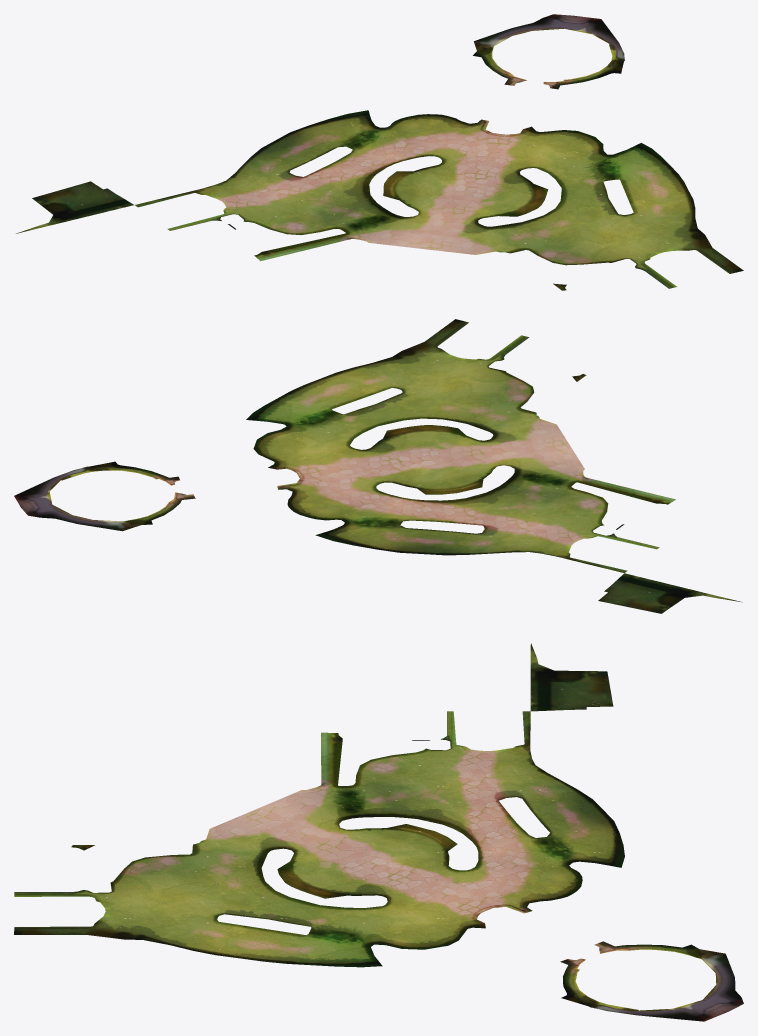
Rendered from pref_sm_garden_terrain_02_lv2.fbx.
3 views of the same model, one above another, from view 1: azimuth 30°, elevation 25°; view 2: azimuth 150°, elevation 25°; view 3: azimuth 270°, elevation 25° (orthographic). The views are drawn at different scales.
Parts seen in each view (by area): view 1: pref_sm_garden_terrain_02_lv2; view 2: pref_sm_garden_terrain_02_lv2; view 3: pref_sm_garden_terrain_02_lv2.
Part boxes in pixels (left/top/right/bottom): pref_sm_garden_terrain_02_lv2: left=16, top=14, right=743, bottom=290; pref_sm_garden_terrain_02_lv2: left=14, top=319, right=742, bottom=613; pref_sm_garden_terrain_02_lv2: left=14, top=643, right=743, bottom=1021.
Size of the model in its own units: 68.87 by 0.000488 by 56.01.
